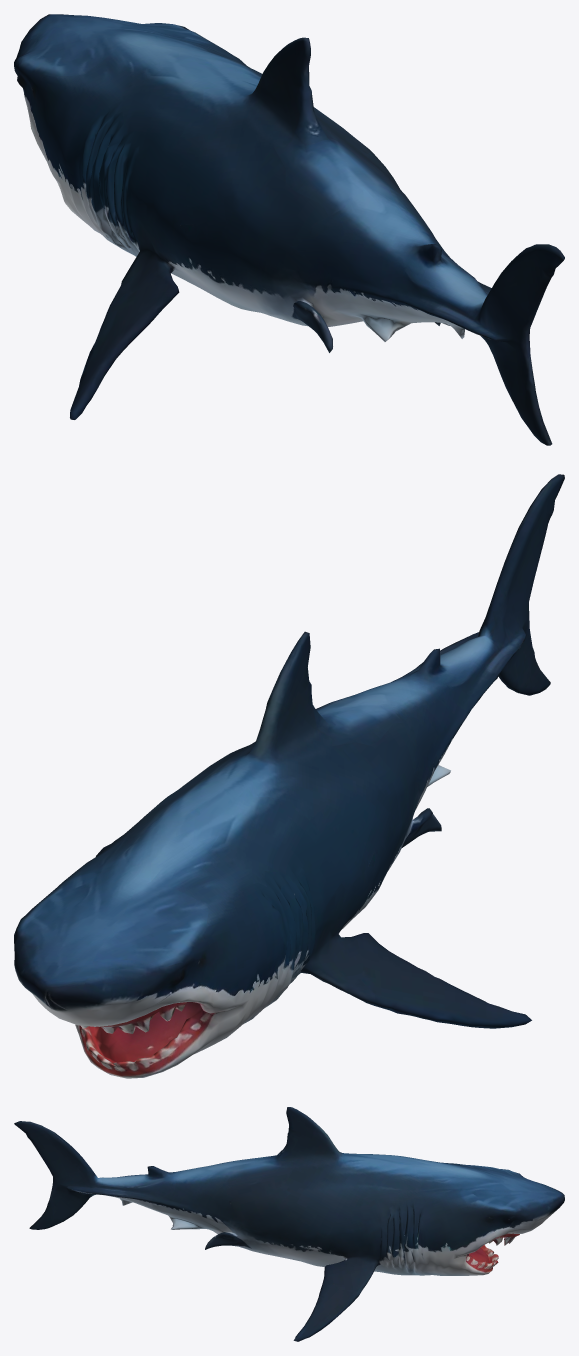
File: shark.glb
The picture shows the model from 3 angles, top to bottom: view 1: azimuth 30°, elevation 25°; view 2: azimuth 150°, elevation 25°; view 3: azimuth 270°, elevation 25°; orthographic projection. The views are drawn at different scales.
Visible parts, largest first — view 1: tripo_node_400c2e4e-daee-47bb-a6d9-ecc7b90dc603; view 2: tripo_node_400c2e4e-daee-47bb-a6d9-ecc7b90dc603; view 3: tripo_node_400c2e4e-daee-47bb-a6d9-ecc7b90dc603.
Part boxes in pixels (x1,y1,x2,y2): tripo_node_400c2e4e-daee-47bb-a6d9-ecc7b90dc603: (14, 14, 564, 445); tripo_node_400c2e4e-daee-47bb-a6d9-ecc7b90dc603: (14, 474, 564, 1078); tripo_node_400c2e4e-daee-47bb-a6d9-ecc7b90dc603: (14, 1107, 564, 1341).
Bounding box in the file's own units: 0.5159 × 0.3547 × 1.
1 material, 1 textured.
